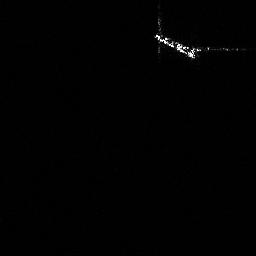ship: (151, 29, 203, 61)
